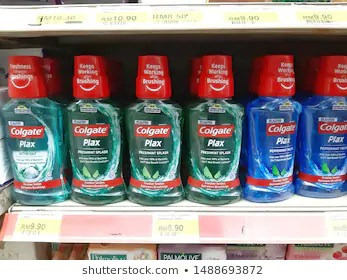colgate-Plax: (3, 55, 69, 206), (124, 51, 185, 205), (64, 55, 127, 204), (185, 52, 243, 205), (295, 57, 347, 197), (249, 54, 296, 203)
